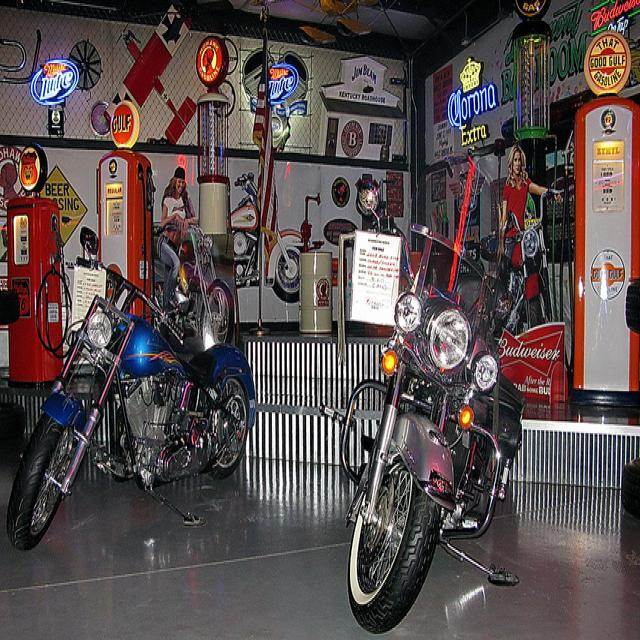motor: (317, 224, 526, 636), (1, 219, 258, 552), (476, 184, 565, 335), (150, 223, 235, 346)
